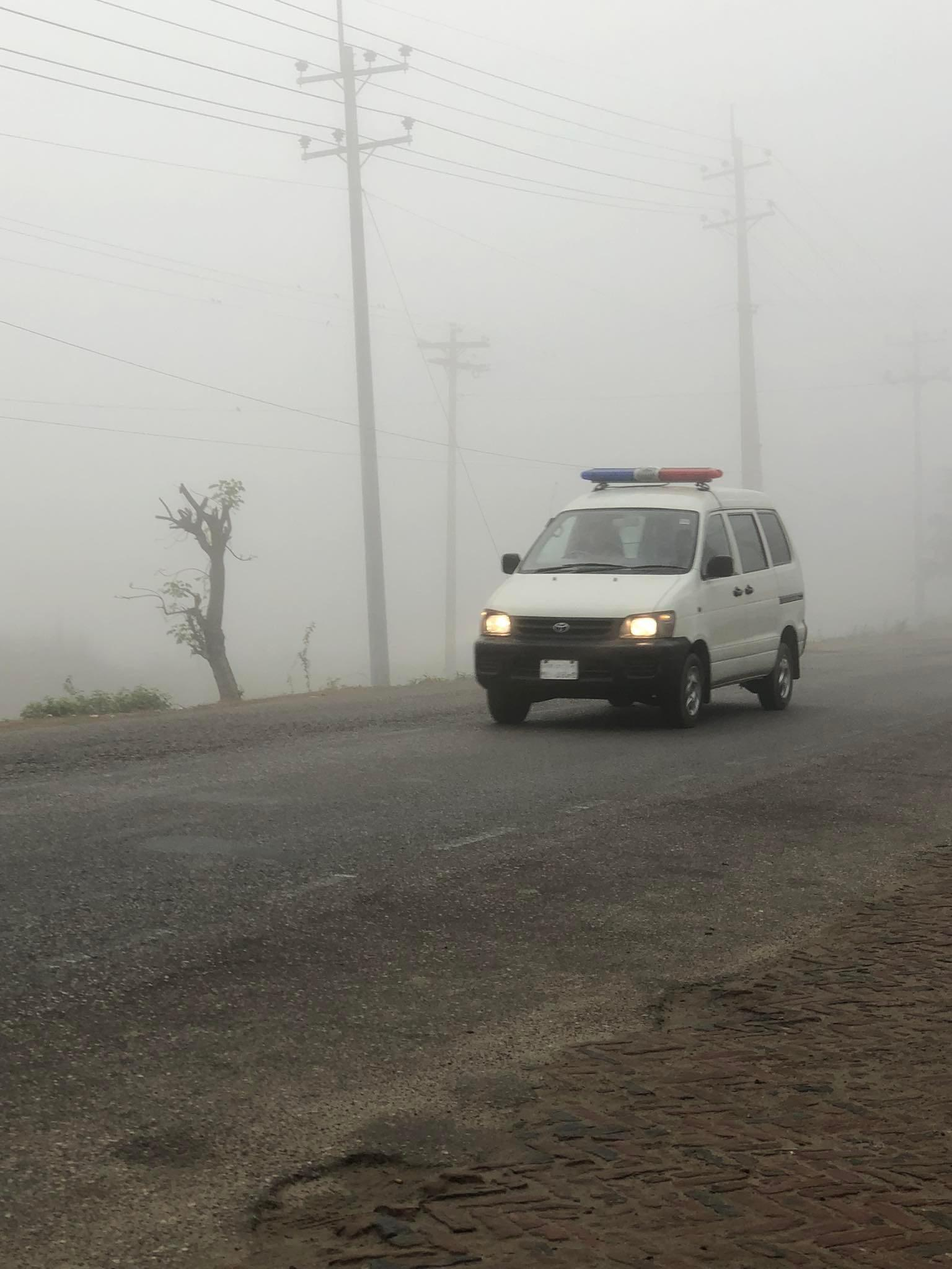Car: (456, 429, 854, 768)
